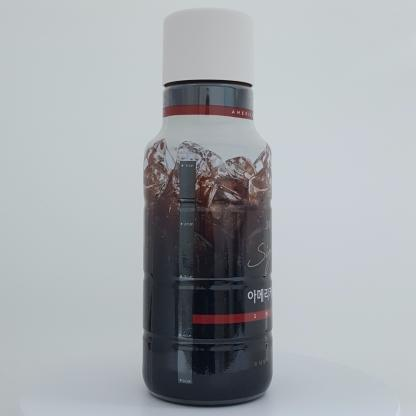--------------1-1L: (143, 8, 272, 405)
